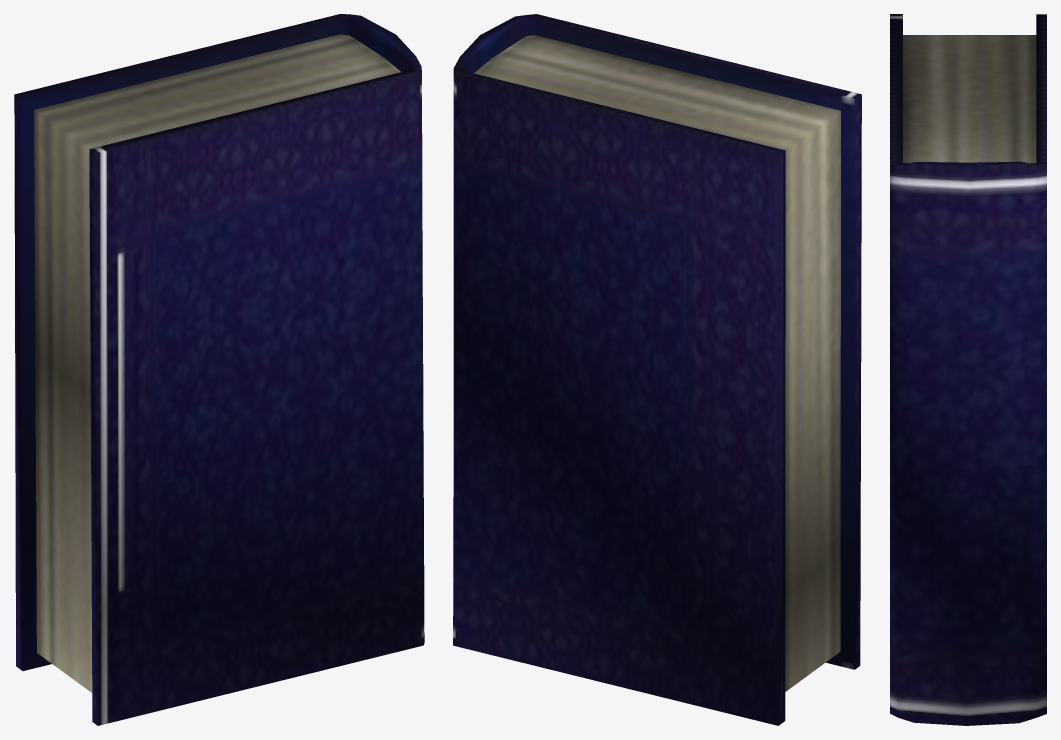
Rendered from frl_apartment_book_02.glb.
3 views of the same model, side by side, from view 1: azimuth 30°, elevation 25°; view 2: azimuth 150°, elevation 25°; view 3: azimuth 270°, elevation 25° (orthographic). The views are drawn at different scales.
Visible parts, largest first — view 1: frl_apartment_book_02; view 2: frl_apartment_book_02; view 3: frl_apartment_book_02.
Boxes of the visible parts, x1=… form: frl_apartment_book_02: x1=14, y1=14, x2=424, y2=725; frl_apartment_book_02: x1=453, y1=14, x2=861, y2=725; frl_apartment_book_02: x1=890, y1=14, x2=1046, y2=725.
Size of the model in its own units: 0.1347 by 0.2195 by 0.0558.
Materials: 1 (1 with a texture image).
